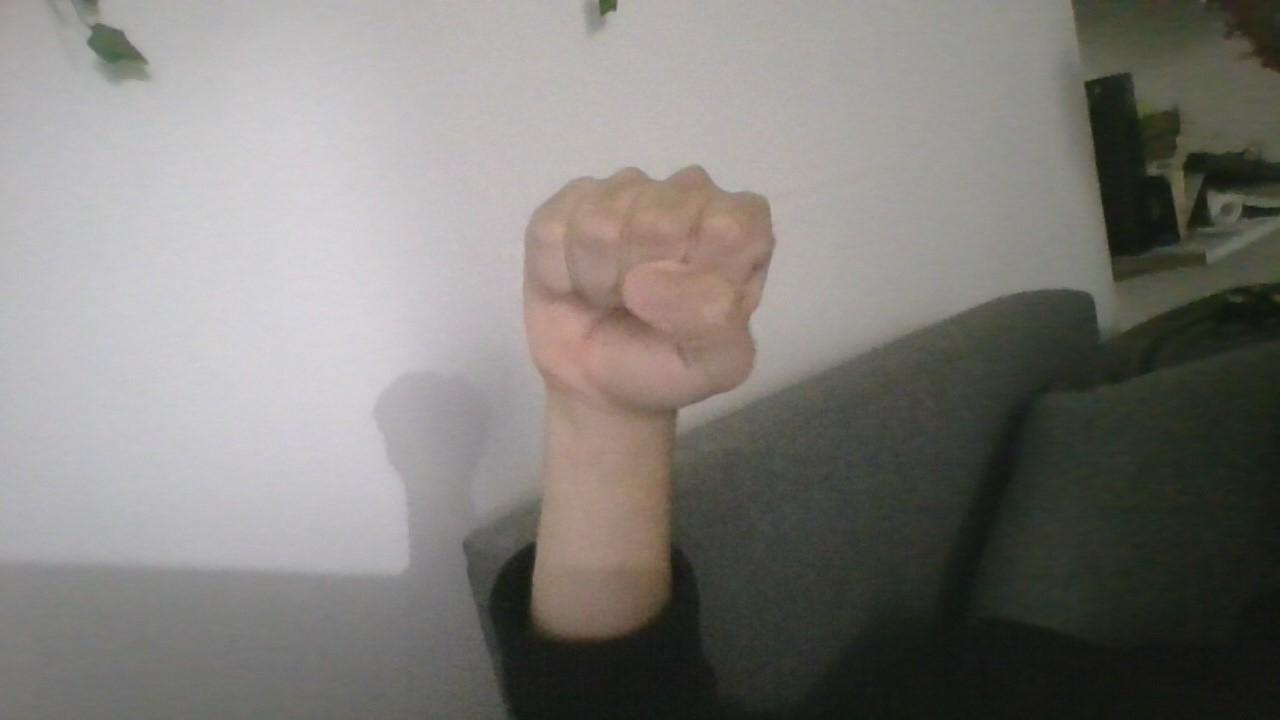stop: (496, 132, 800, 447)
